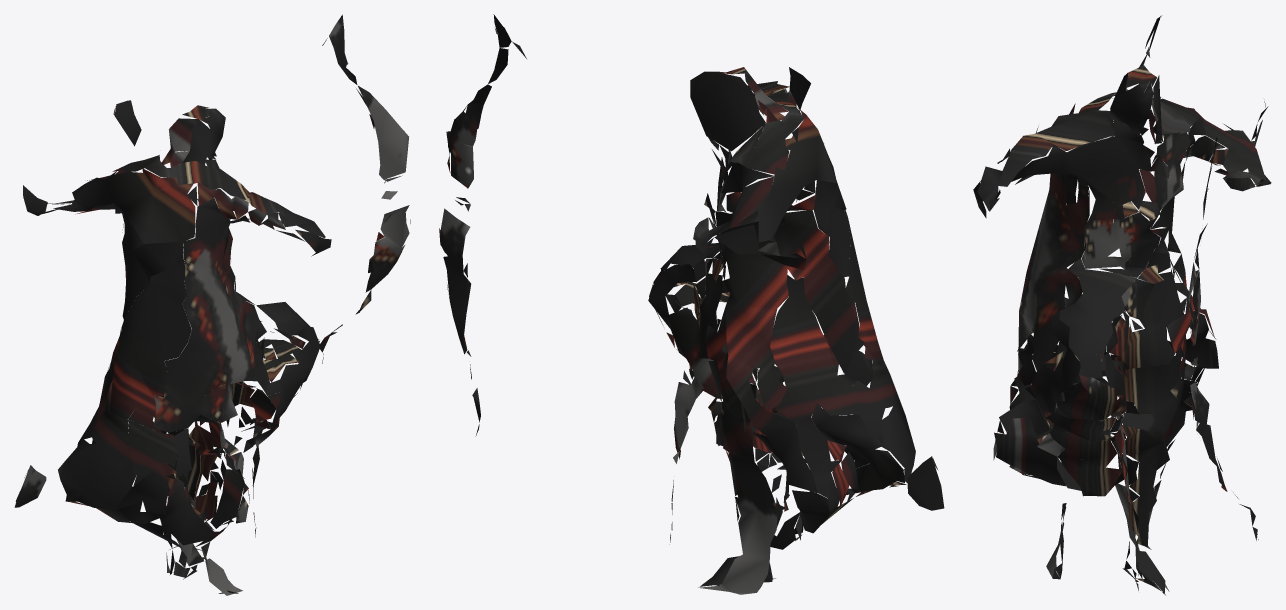
3 renders of one model, left to right at view 1: azimuth 30°, elevation 25°; view 2: azimuth 150°, elevation 25°; view 3: azimuth 270°, elevation 25°, orthographic. The views are drawn at different scales.
Visible parts, largest first — view 1: body.002; view 2: body.002; view 3: body.002.
Boxes of the visible parts, left/top/right/bottom form: body.002: left=14, top=14, right=410, bottom=595; body.002: left=439, top=14, right=944, bottom=594; body.002: left=973, top=15, right=1271, bottom=595.
Bounding box in the file's own units: 1.8 × 2 × 0.9893.
1 material, 1 textured.
